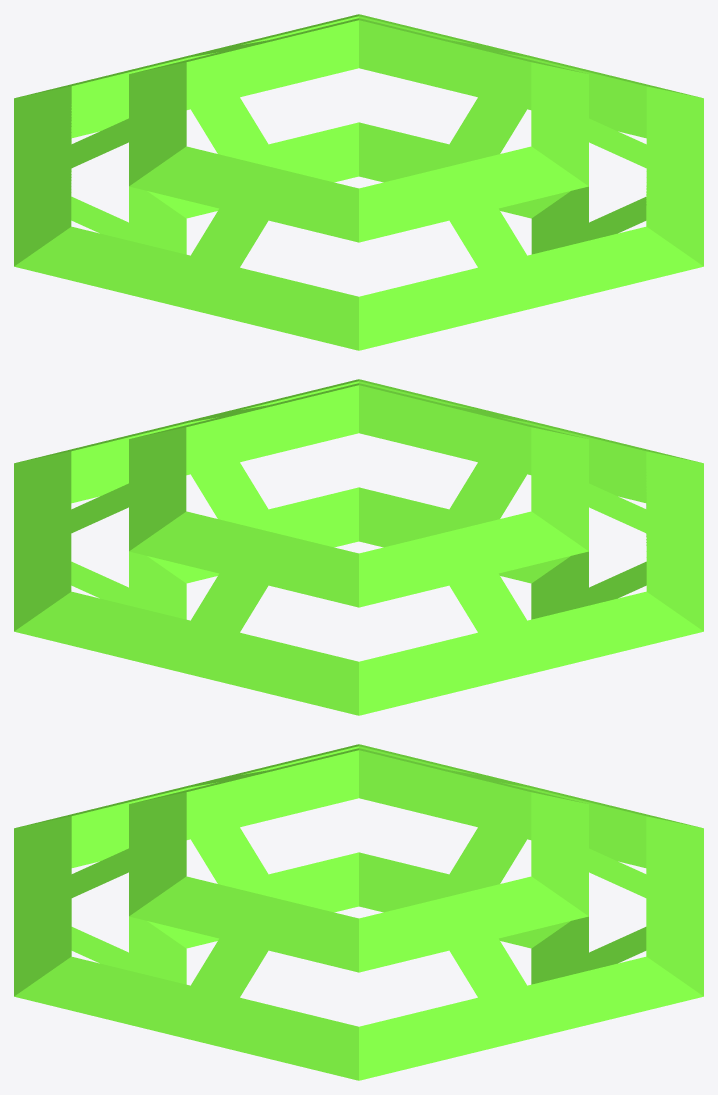
Rendered from Unit Support.gltf.
The picture shows the model from 3 angles, top to bottom: view 1: azimuth 30°, elevation 25°; view 2: azimuth 150°, elevation 25°; view 3: azimuth 270°, elevation 25°; orthographic projection.
Visible parts, largest first — view 1: circle; view 2: circle; view 3: circle.
Boxes of the visible parts, x1=… form: circle: x1=14, y1=14, x2=703, y2=350; circle: x1=14, y1=379, x2=703, y2=715; circle: x1=14, y1=744, x2=703, y2=1080.
Bounding box in the file's own units: 0.866 × 0.375 × 0.75.
Materials: 1 (1 with a texture image).
